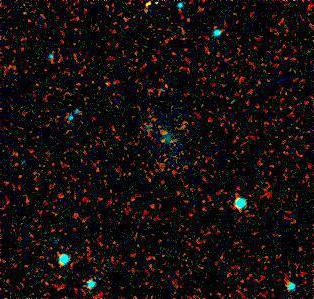star: (134, 0, 164, 22)
